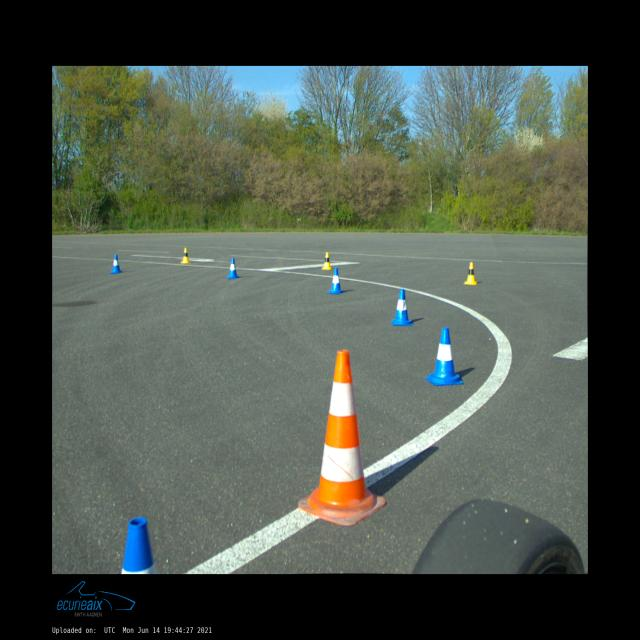blue_cone: (425, 327, 464, 386), (120, 517, 158, 574), (391, 289, 413, 325), (327, 268, 345, 294), (227, 258, 239, 278), (110, 254, 121, 274)
large_orange_cone: (298, 350, 386, 526)
yellow_cone: (463, 262, 478, 285), (322, 252, 332, 270), (181, 248, 190, 264)
